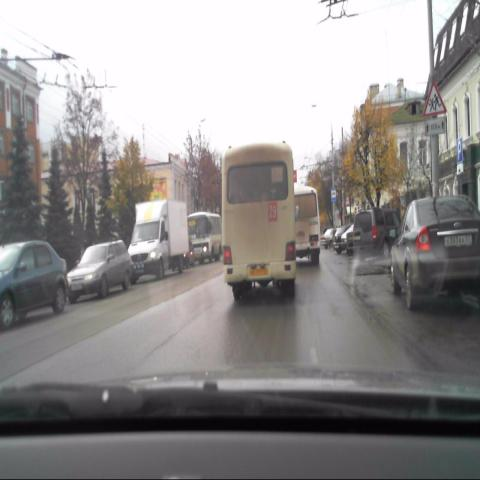8_2_1: (423, 117, 446, 136)
